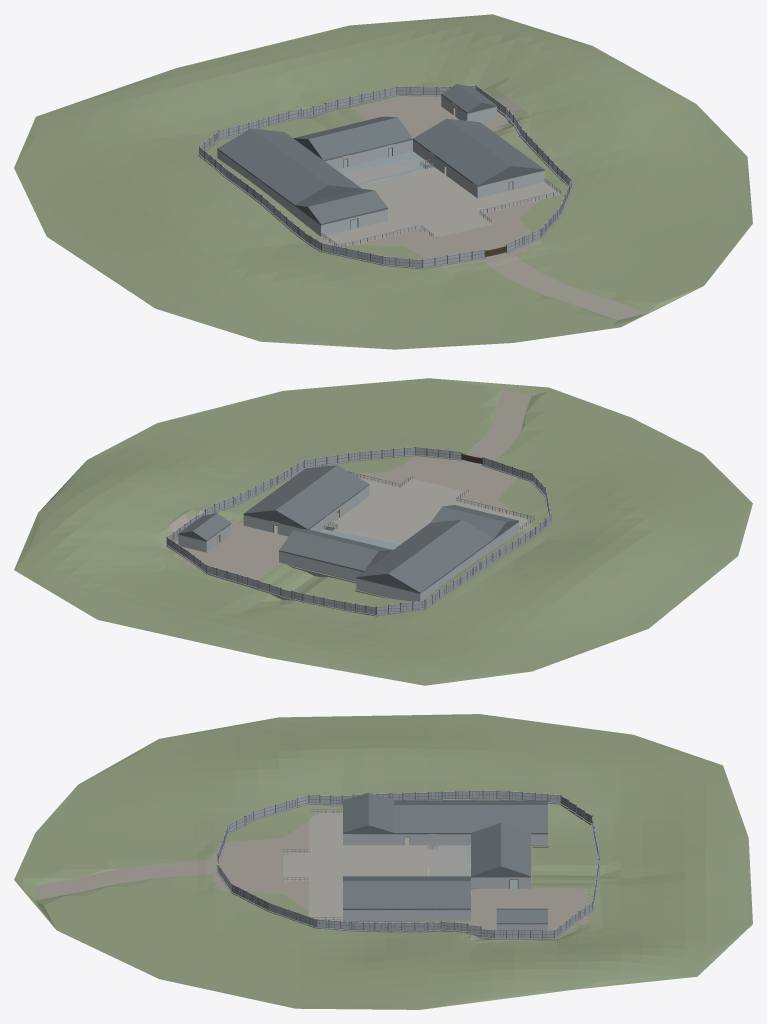
File: station-with-power.glb
3 renders of one model, top to bottom at view 1: azimuth 30°, elevation 25°; view 2: azimuth 150°, elevation 25°; view 3: azimuth 270°, elevation 25°, orthographic. The views are drawn at different scales.
Parts seen in each view (by area): view 1: Northwatch joined valley and service lane, Saved editor geographic earthworks WLD-08.001, WLD-08 compound service forecourt structural surface region0, WLD-08 raised courtyard terrace structural surface region0, dormitory-and-mess roof west, radio-records roof south, laboratory roof west, generator-building roof west, Northwatch braced post line, stores roof south, dormitory-and-mess roof east, WLD-08 main tunnel roof with rectangular wells region0 (+5 smaller); view 2: Northwatch joined valley and service lane, Saved editor geographic earthworks WLD-08.001, WLD-08 raised courtyard terrace structural surface region0, dormitory-and-mess roof west, radio-records roof north, WLD-08 compound service forecourt structural surface region0, generator-building roof west, laboratory roof west, Northwatch braced post line, dormitory-and-mess roof east, stores roof north, generator-building roof east (+4 smaller); view 3: Northwatch joined valley and service lane, Saved editor geographic earthworks WLD-08.001, dormitory-and-mess roof east, WLD-08 compound service forecourt structural surface region0, WLD-08 raised courtyard terrace structural surface region0, laboratory roof east, generator-building roof east, radio-records roof north, radio-records roof south, Northwatch braced post line, WLD-08 main tunnel roof with rectangular wells region0, stores roof north (+8 smaller).
Boxes of the visible parts, bbox=[...] form: Northwatch joined valley and service lane: bbox=[14, 14, 752, 349]; Saved editor geographic earthworks WLD-08.001: bbox=[178, 82, 563, 276]; WLD-08 compound service forecourt structural surface region0: bbox=[321, 182, 561, 246]; WLD-08 raised courtyard terrace structural surface region0: bbox=[358, 167, 477, 220]; dormitory-and-mess roof west: bbox=[413, 119, 510, 186]; radio-records roof south: bbox=[308, 117, 412, 160]; laboratory roof west: bbox=[256, 157, 328, 205]; generator-building roof west: bbox=[217, 128, 289, 176]; Northwatch braced post line: bbox=[197, 85, 573, 269]; stores roof south: bbox=[308, 190, 387, 224]; dormitory-and-mess roof east: bbox=[447, 118, 544, 170]; WLD-08 main tunnel roof with rectangular wells region0: bbox=[338, 151, 429, 183]; Northwatch joined valley and service lane: bbox=[14, 378, 752, 685]; Saved editor geographic earthworks WLD-08.001: bbox=[159, 446, 546, 628]; WLD-08 raised courtyard terrace structural surface region0: bbox=[329, 496, 437, 543]; dormitory-and-mess roof west: bbox=[275, 465, 369, 529]; radio-records roof north: bbox=[279, 530, 378, 571]; WLD-08 compound service forecourt structural surface region0: bbox=[359, 477, 529, 531]; generator-building roof west: bbox=[388, 547, 457, 592]; laboratory roof west: bbox=[425, 519, 493, 565]; Northwatch braced post line: bbox=[165, 446, 552, 616]; dormitory-and-mess roof east: bbox=[244, 465, 336, 514]; stores roof north: bbox=[430, 506, 506, 538]; generator-building roof east: bbox=[356, 546, 424, 577]; Northwatch joined valley and service lane: bbox=[14, 714, 752, 1009]; Saved editor geographic earthworks WLD-08.001: bbox=[197, 800, 616, 942]; dormitory-and-mess roof east: bbox=[343, 881, 470, 909]; WLD-08 compound service forecourt structural surface region0: bbox=[308, 813, 342, 921]; WLD-08 raised courtyard terrace structural surface region0: bbox=[343, 845, 428, 876]; laboratory roof east: bbox=[394, 805, 470, 833]; generator-building roof east: bbox=[471, 805, 547, 833]; radio-records roof north: bbox=[501, 823, 530, 876]; radio-records roof south: bbox=[471, 823, 500, 876]; Northwatch braced post line: bbox=[219, 790, 600, 939]; WLD-08 main tunnel roof with rectangular wells region0: bbox=[428, 845, 470, 876]; stores roof north: bbox=[368, 793, 394, 833].
Bounding box in the file's own units: 166 × 9.04 × 173.
67 materials, 45 textured.
